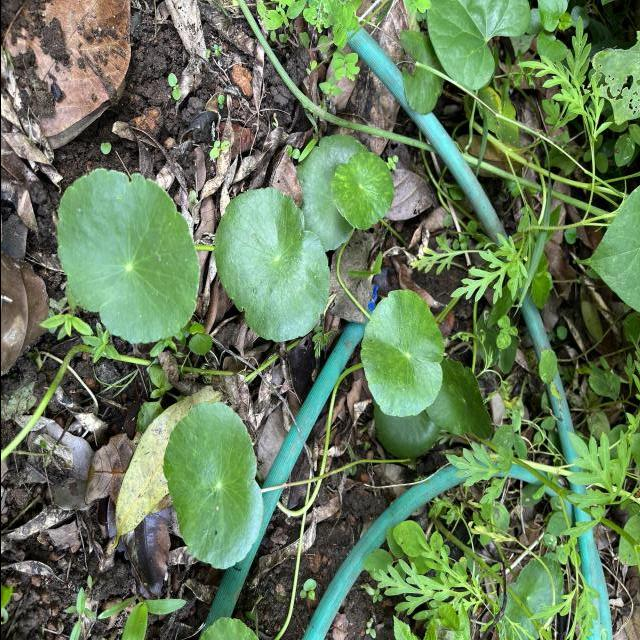Bacopa monnieri: (52, 166, 202, 346), (210, 184, 330, 344), (159, 399, 264, 572), (358, 286, 446, 420), (328, 150, 396, 232)
